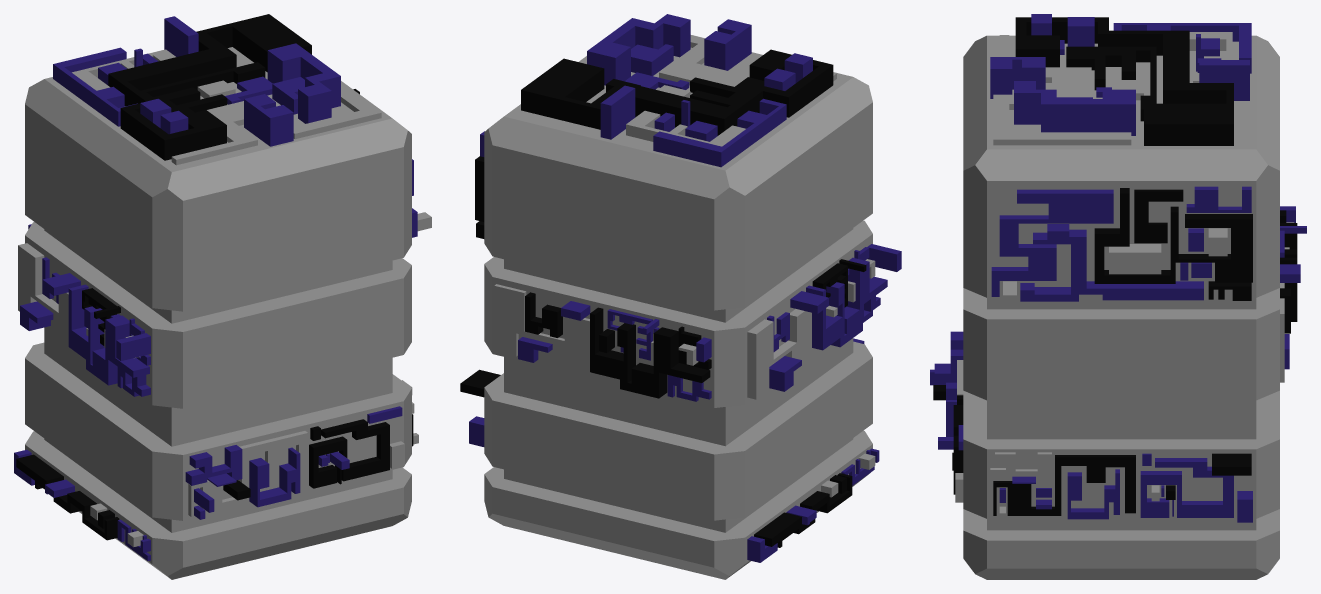
The model's file is cuboid.fbx.
The picture shows the model from 3 angles, left to right: view 1: azimuth 30°, elevation 25°; view 2: azimuth 150°, elevation 25°; view 3: azimuth 270°, elevation 25°; orthographic projection. The views are drawn at different scales.
Visible parts, largest first — view 1: Cuboid; view 2: Cuboid; view 3: Cuboid.
Boxes of the visible parts, left/top/right/bottom form: Cuboid: left=14, top=14, right=431, bottom=579; Cuboid: left=460, top=14, right=901, bottom=579; Cuboid: left=930, top=14, right=1306, bottom=579.
Bounding box in the file's own units: 308 × 410 × 300.
